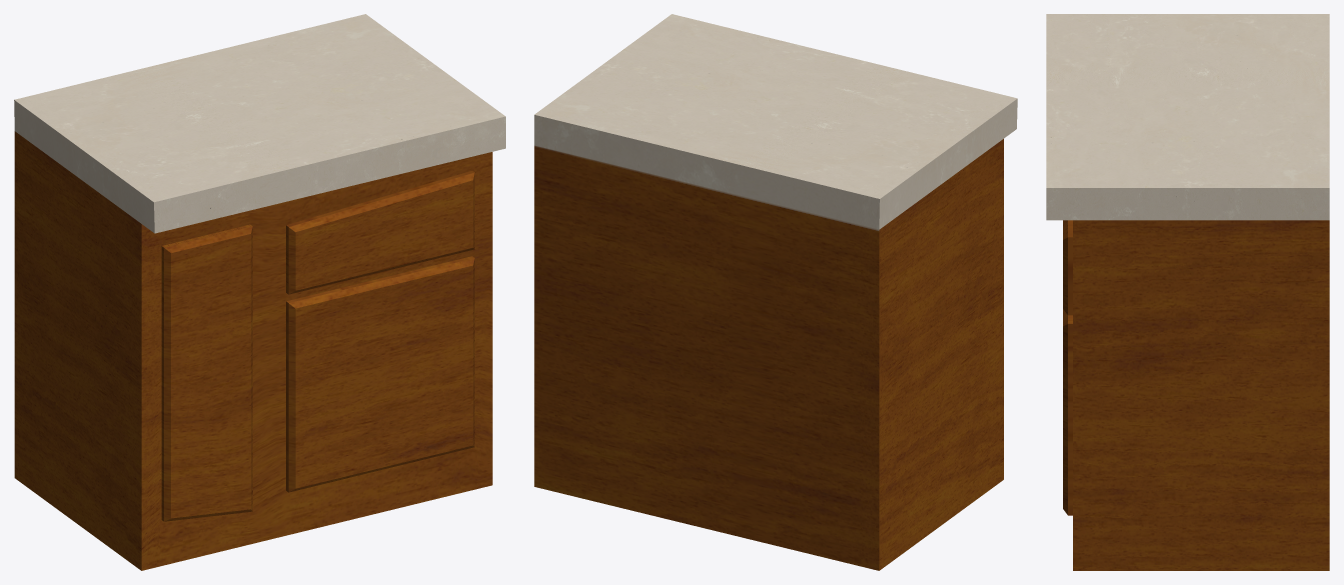
Rendered from Counter4.fbx.
3 views of the same model, side by side, from view 1: azimuth 30°, elevation 25°; view 2: azimuth 150°, elevation 25°; view 3: azimuth 270°, elevation 25° (orthographic). The views are drawn at different scales.
Parts seen in each view (by area): view 1: Counter4:pCube30countertop; view 2: Counter4:pCube30countertop; view 3: Counter4:pCube30countertop.
Boxes of the visible parts, <box> form: Counter4:pCube30countertop: <box>14,14,505,570</box>; Counter4:pCube30countertop: <box>534,14,1017,570</box>; Counter4:pCube30countertop: <box>1046,14,1329,570</box>.
Bounding box in the file's own units: 8.01 × 8.23 × 5.52.
